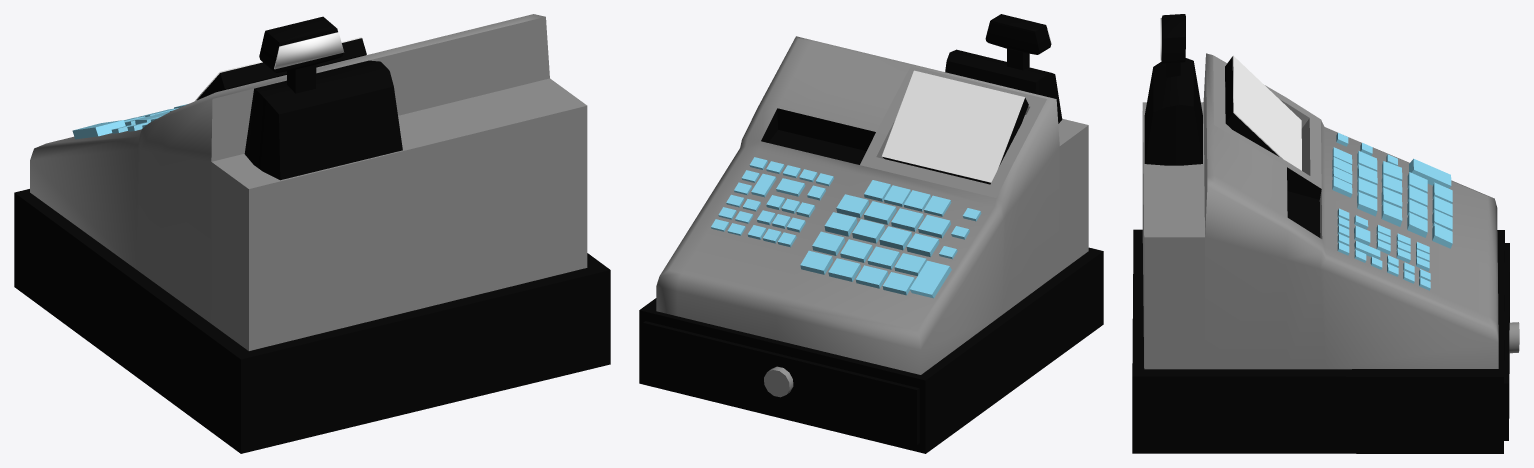
File: Props_CashRegister.fbx
3 views of the same model, side by side, from view 1: azimuth 30°, elevation 25°; view 2: azimuth 150°, elevation 25°; view 3: azimuth 270°, elevation 25° (orthographic). The views are drawn at different scales.
Parts seen in each view (by area): view 1: Cash_Register, Screens; view 2: Cash_Register, Screens; view 3: Cash_Register, Screens.
Part boxes in pixels (left/top/right/bottom): Cash_Register: left=14, top=14, right=610, bottom=453; Screens: left=195, top=32, right=361, bottom=100; Cash_Register: left=639, top=14, right=1103, bottom=453; Screens: left=882, top=27, right=1051, bottom=182; Cash_Register: left=1132, top=14, right=1519, bottom=453; Screens: left=1160, top=18, right=1301, bottom=170.
Size of the model in its own units: 36 by 36 by 40.
